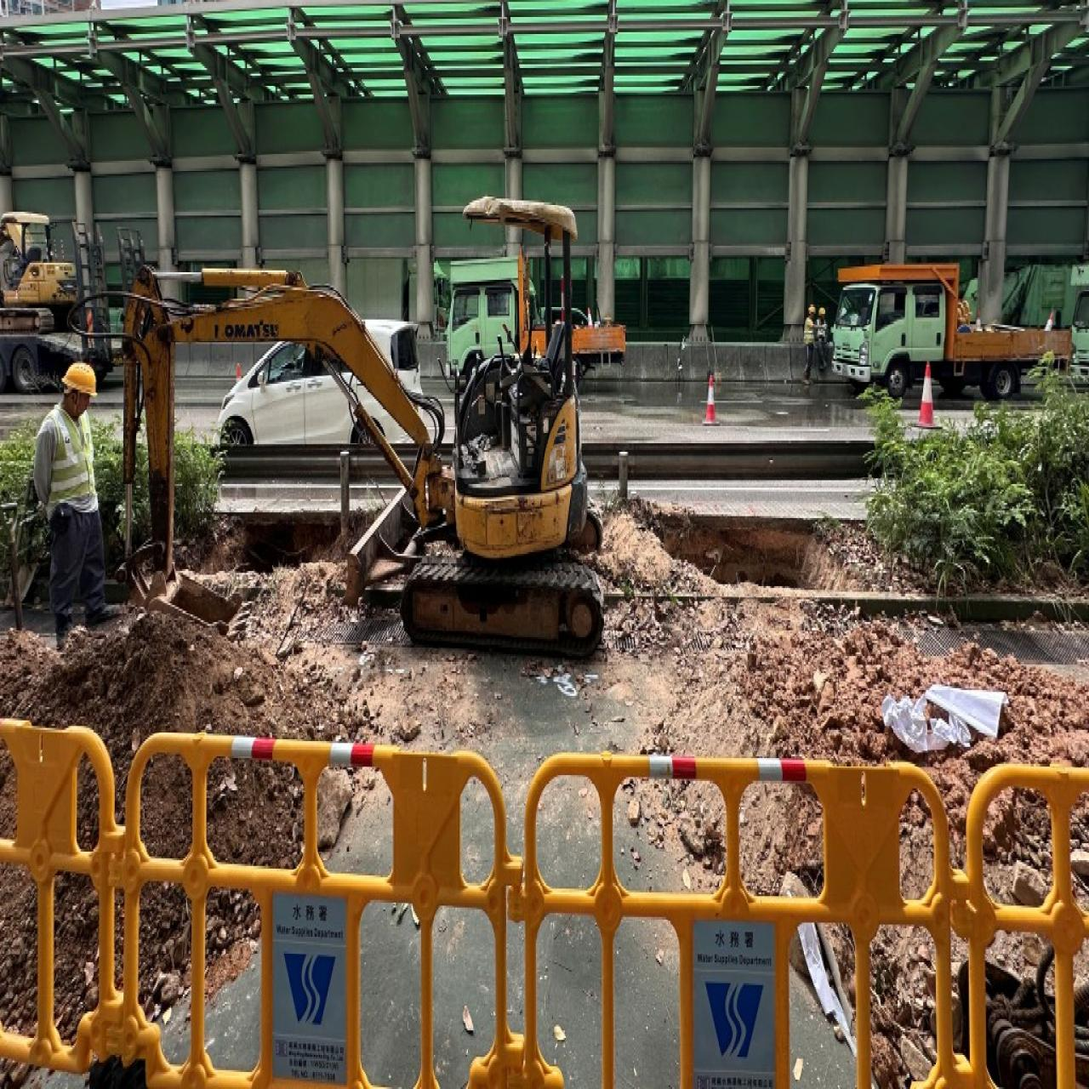Person: (26, 338, 108, 651), (798, 279, 817, 387), (813, 288, 826, 384)
Safety_Vest: (45, 412, 95, 511)
